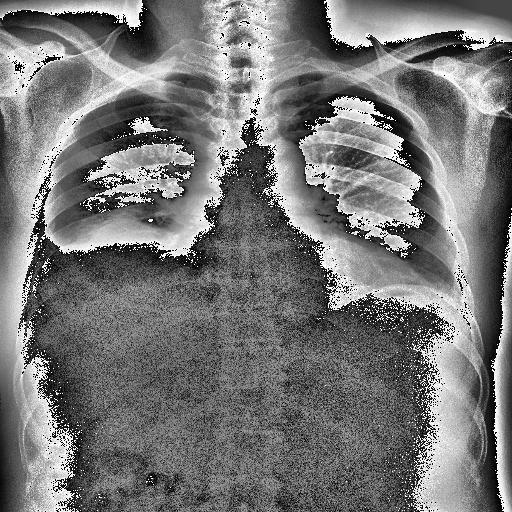10- Pleural effusion: (29, 197, 198, 333), (17, 228, 146, 332), (29, 226, 81, 288)
3- Cardiomegaly: (164, 218, 434, 330), (156, 236, 422, 310)
4- Consolidation: (83, 217, 177, 293)
7- Lung Opacity: (82, 212, 180, 256), (88, 215, 162, 246)
8- Nodule-Mass: (83, 217, 177, 293)
